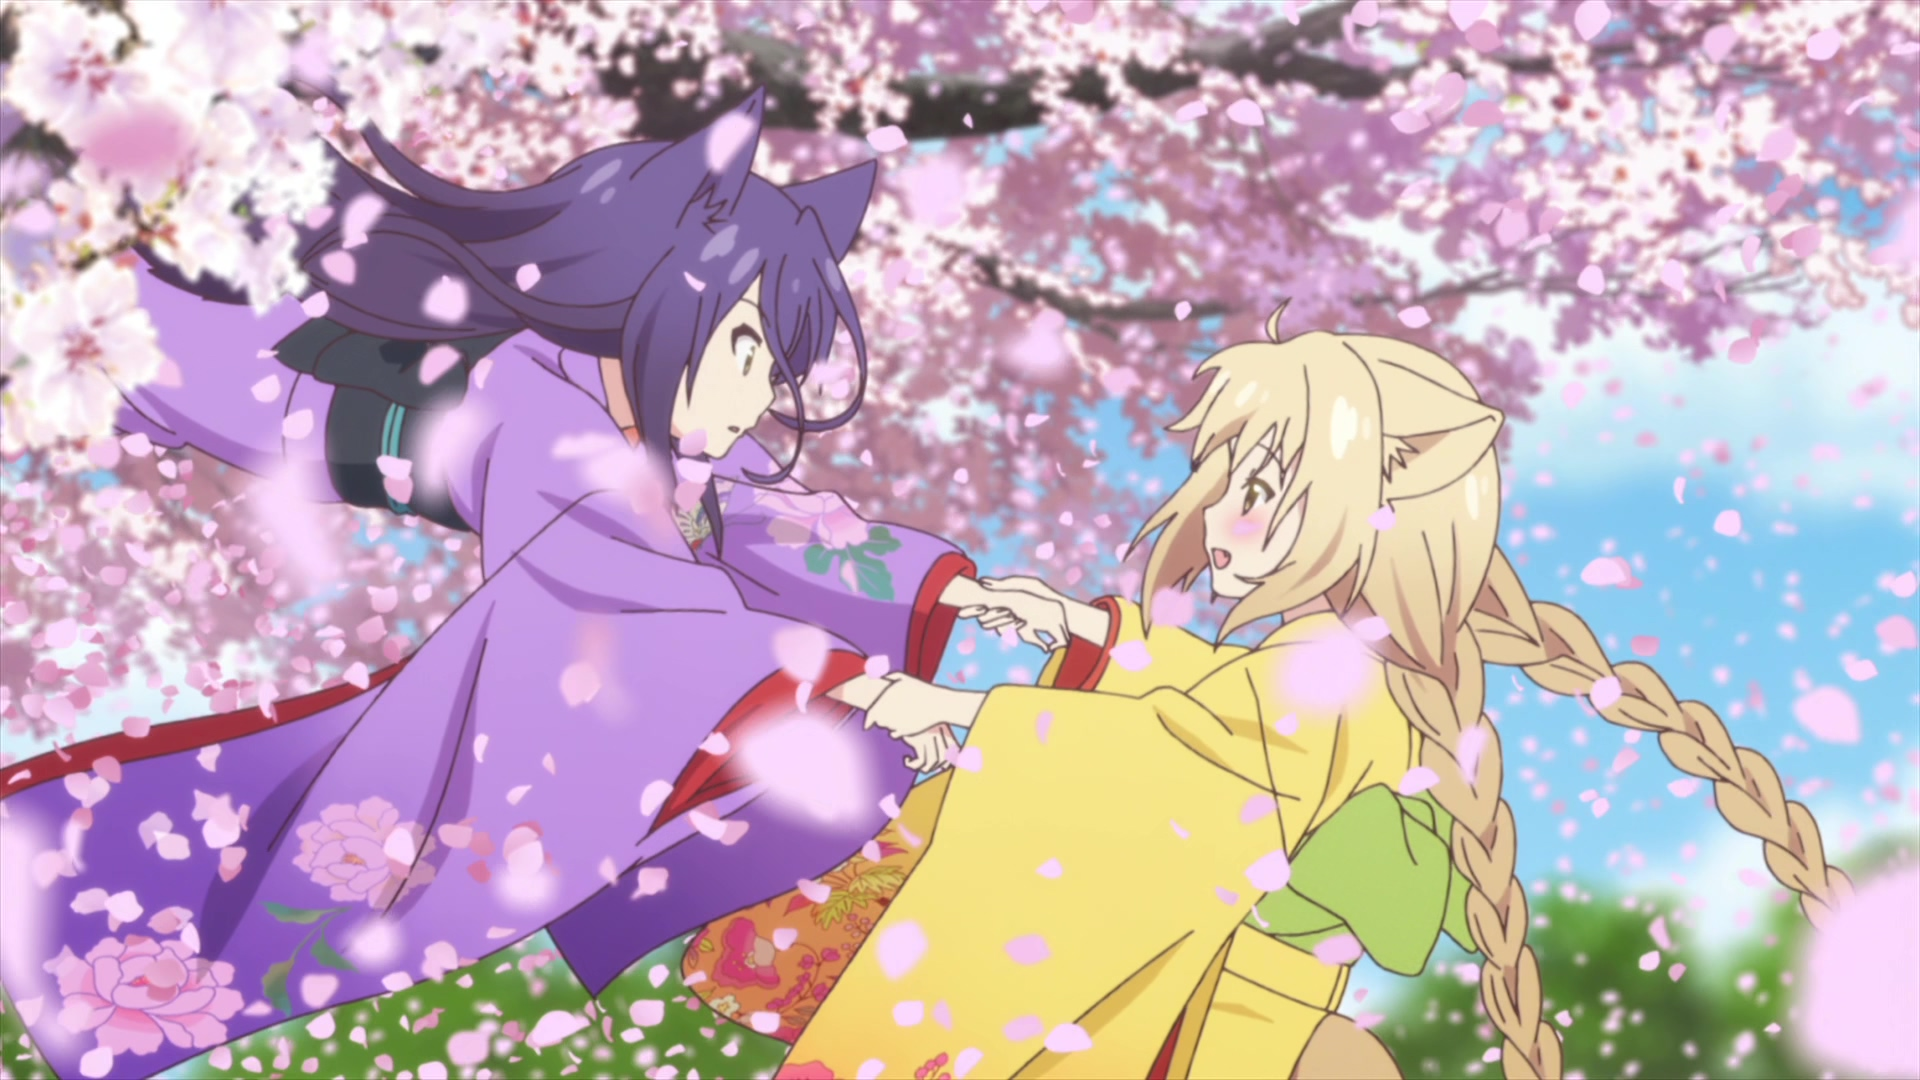柚: (684, 301, 1850, 1080)
皋: (1, 88, 1073, 1080)
